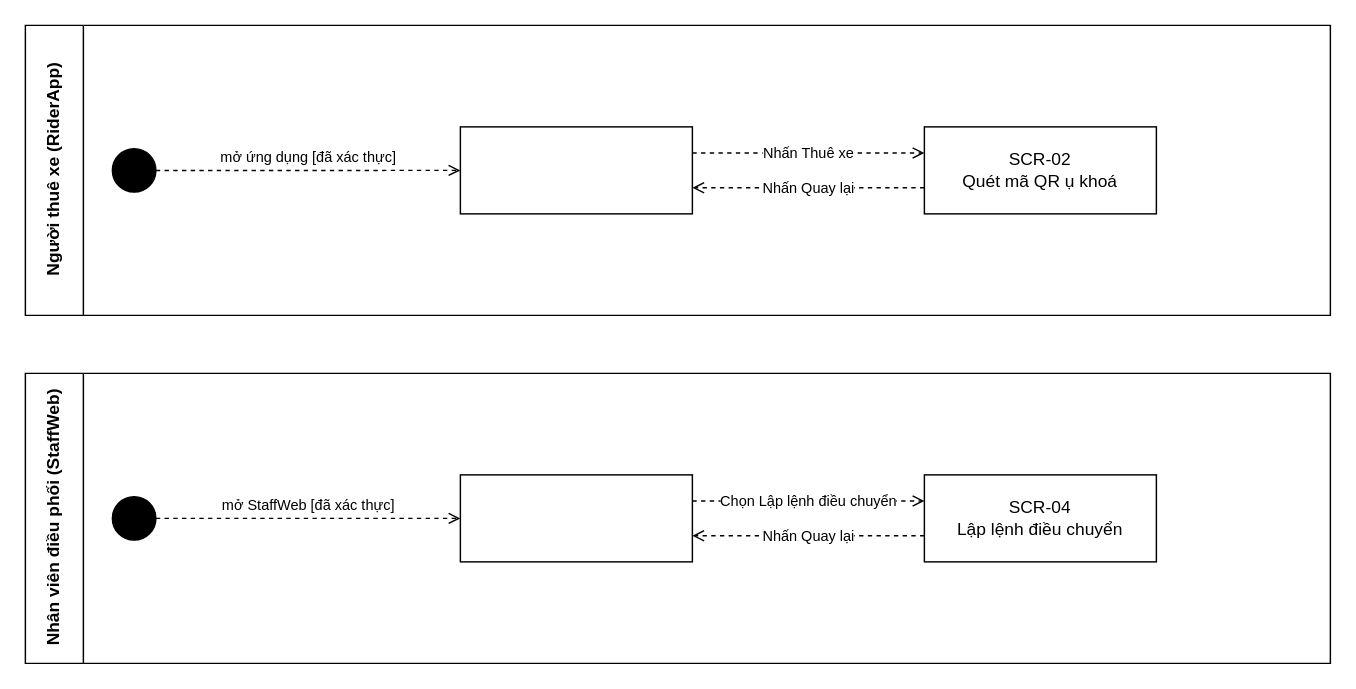
The diagram is 1356 pixels wide and 689 high, and some of its shapes have lost their labels. Each missing label, with the centre of its shape:
"SCR-01 Màn hình chính người thuê xe" goes at (x=575, y=169).
"SCR-03 Màn hình chính nhân viên điều phối" goes at (x=575, y=517).
